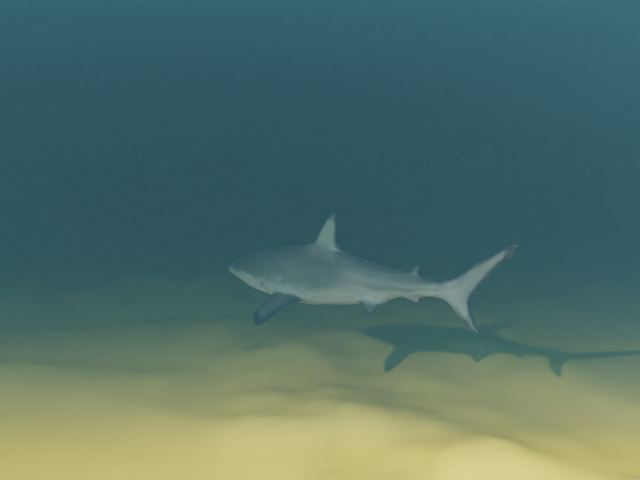Carribean Shark.001: (228, 212, 517, 332)
